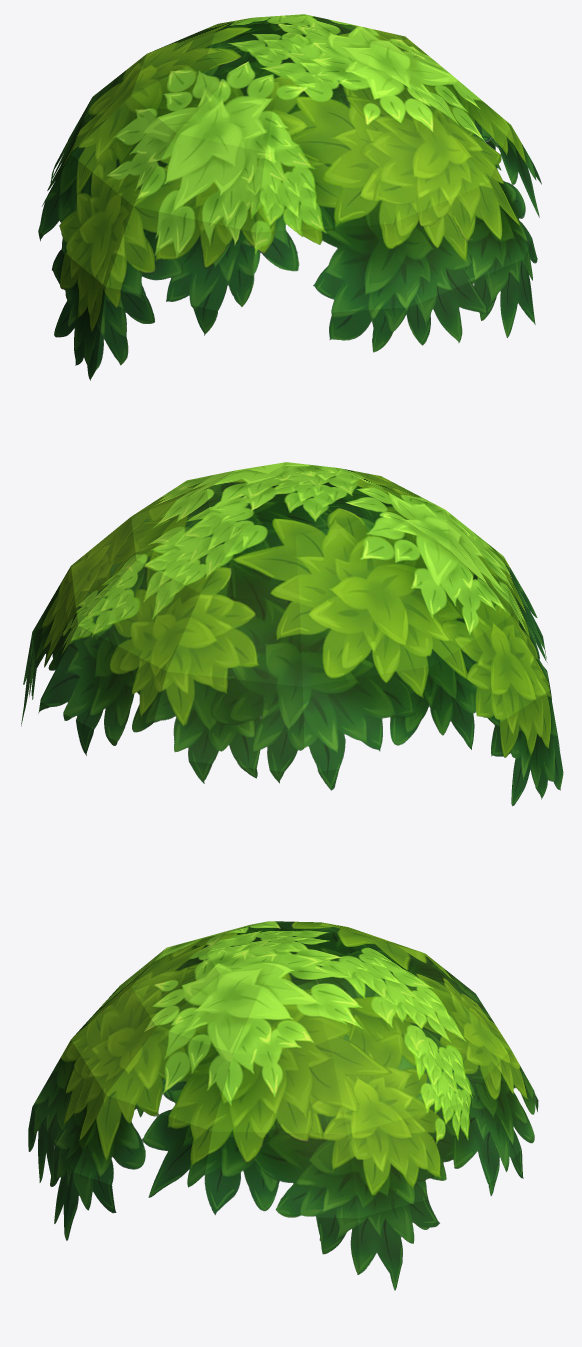
The model's file is Garden_Bush.fbx.
3 renders of one model, top to bottom at view 1: azimuth 30°, elevation 25°; view 2: azimuth 150°, elevation 25°; view 3: azimuth 270°, elevation 25°, orthographic. The views are drawn at different scales.
Visible parts, largest first — view 1: Bush; view 2: Bush; view 3: Bush.
Boxes of the visible parts, x1,y1,x2,y2 form: Bush: (38,14,541,380); Bush: (21,462,563,806); Bush: (28,921,538,1290).
Size of the model in its own units: 0.7263 by 0.4128 by 0.7508.
